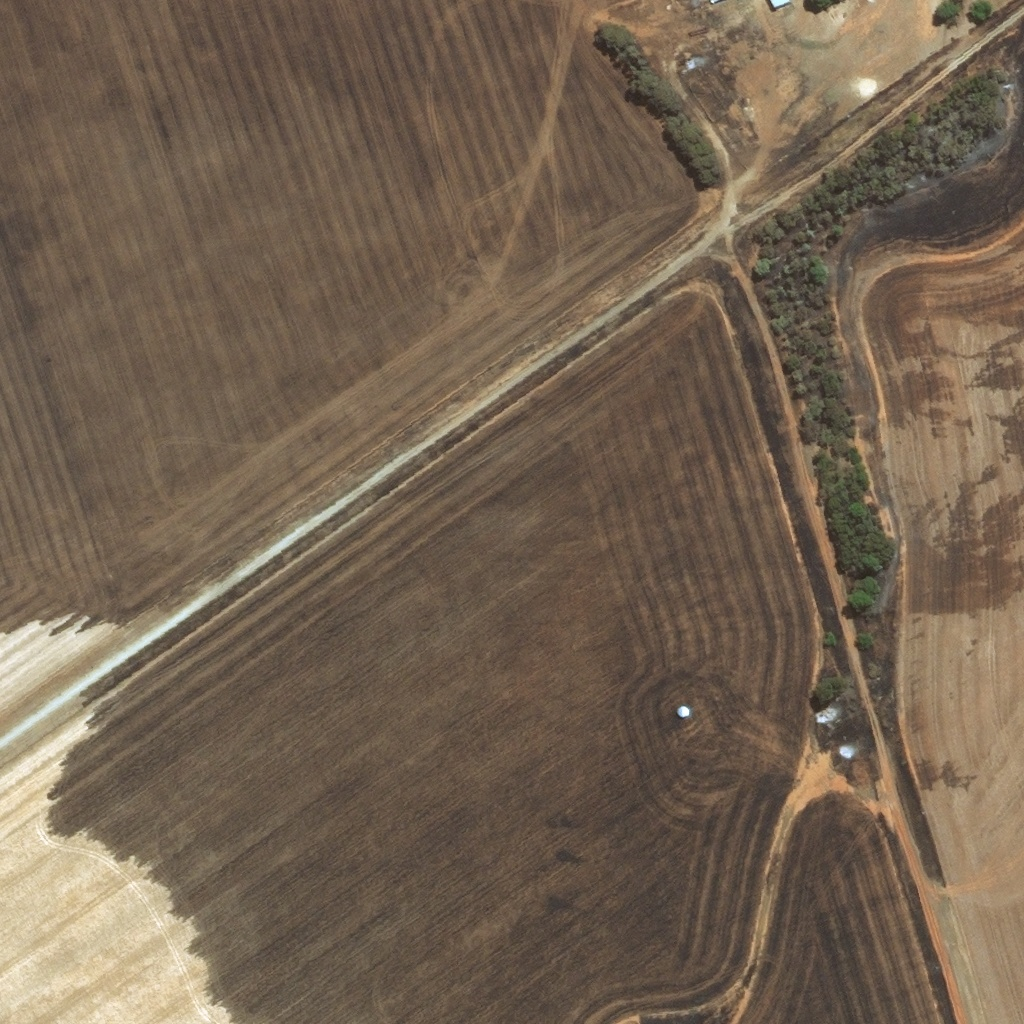4 un-classified: (880, 13, 891, 40)
